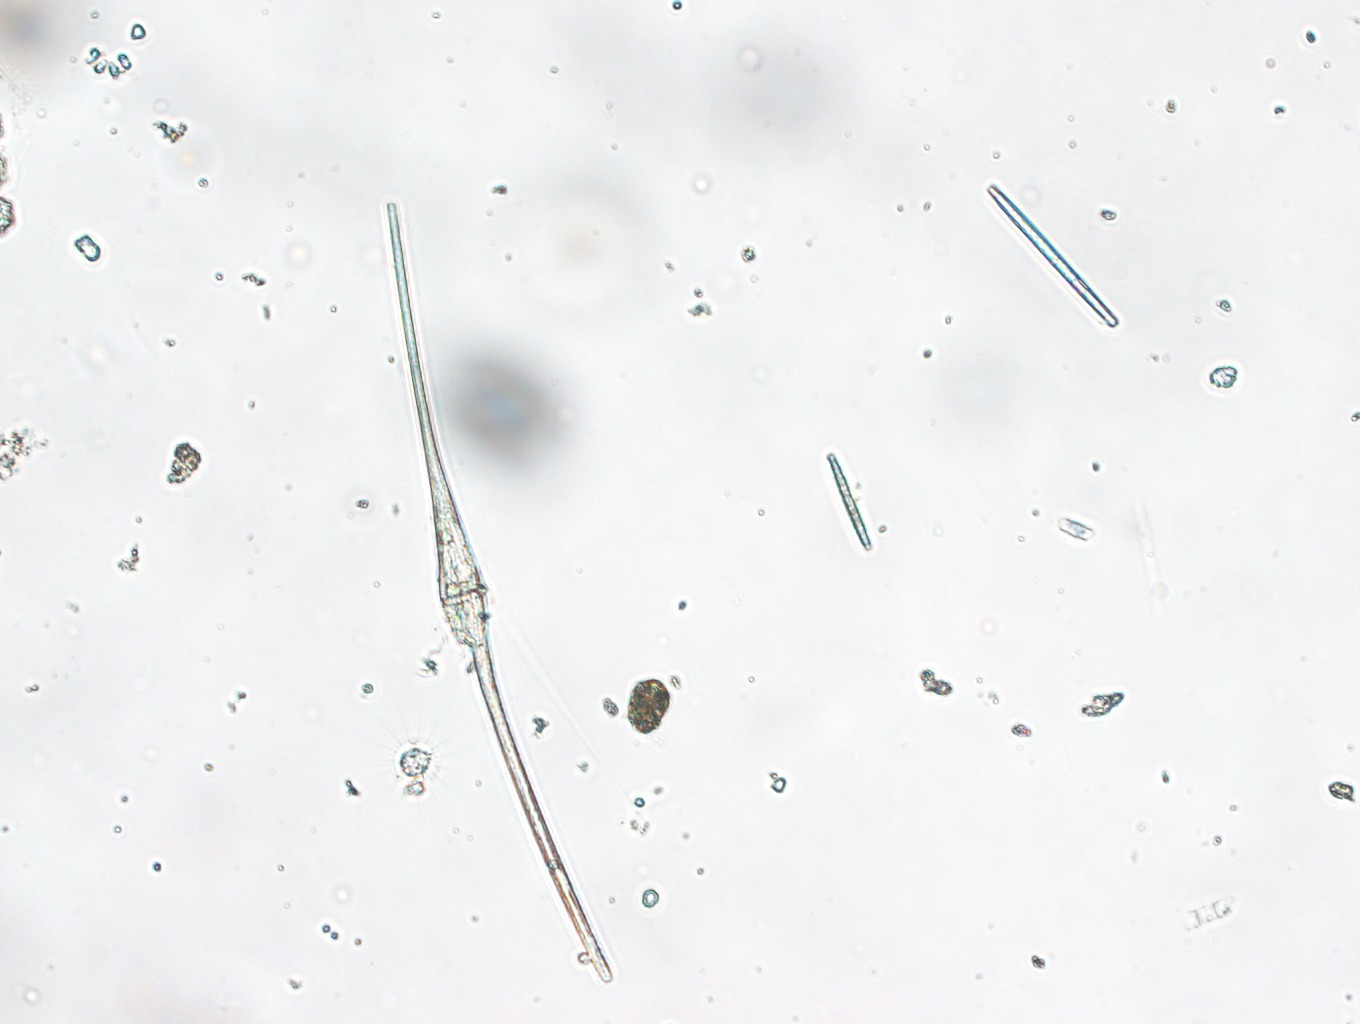ceratium fusus: (368, 195, 638, 989)
